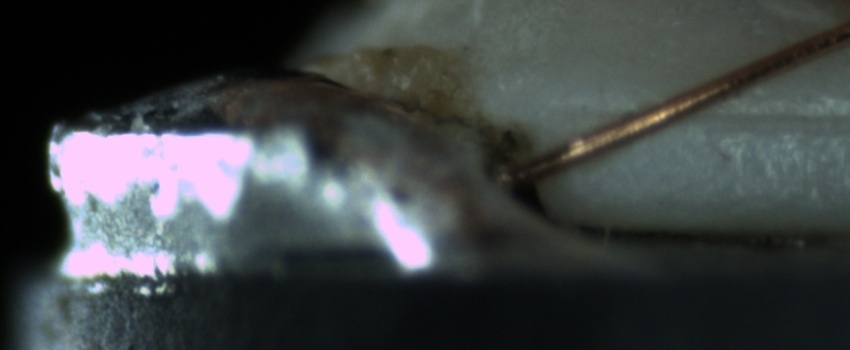DL: (576, 83, 844, 147)
